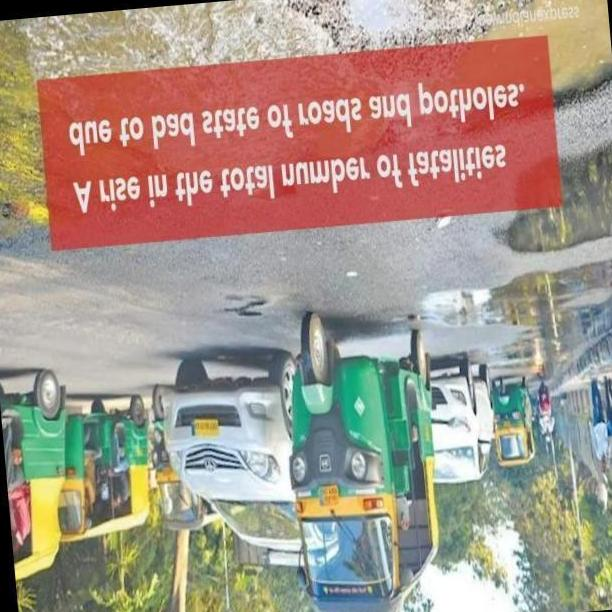pothole: (447, 0, 612, 126)
